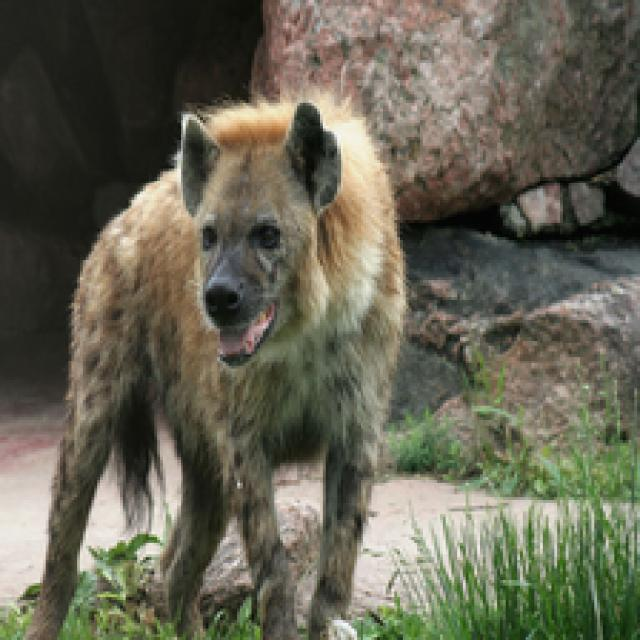hyena: (19, 56, 400, 630)
